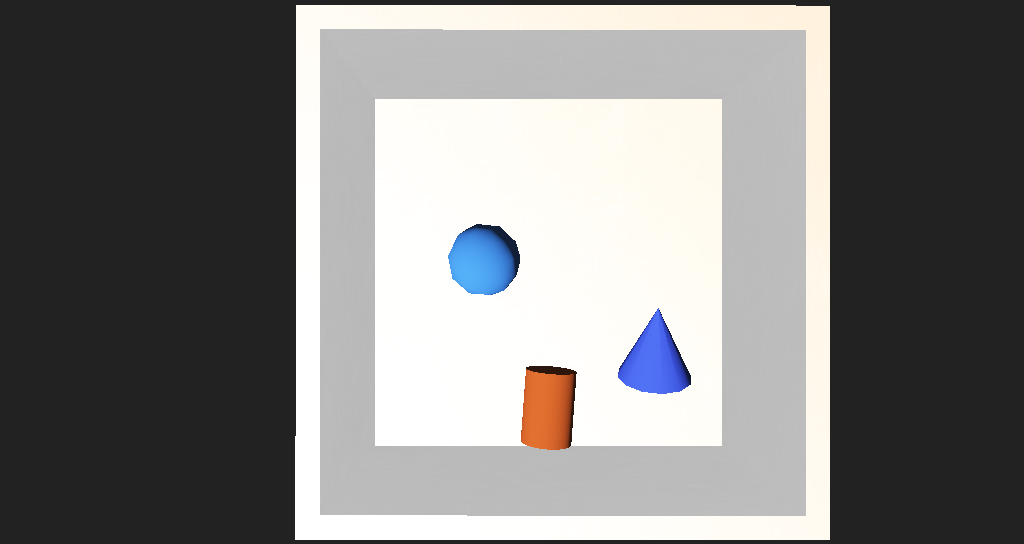cone: (478, 327, 532, 379)
cylinder: (566, 284, 633, 346)
sphere: (421, 241, 482, 284)
